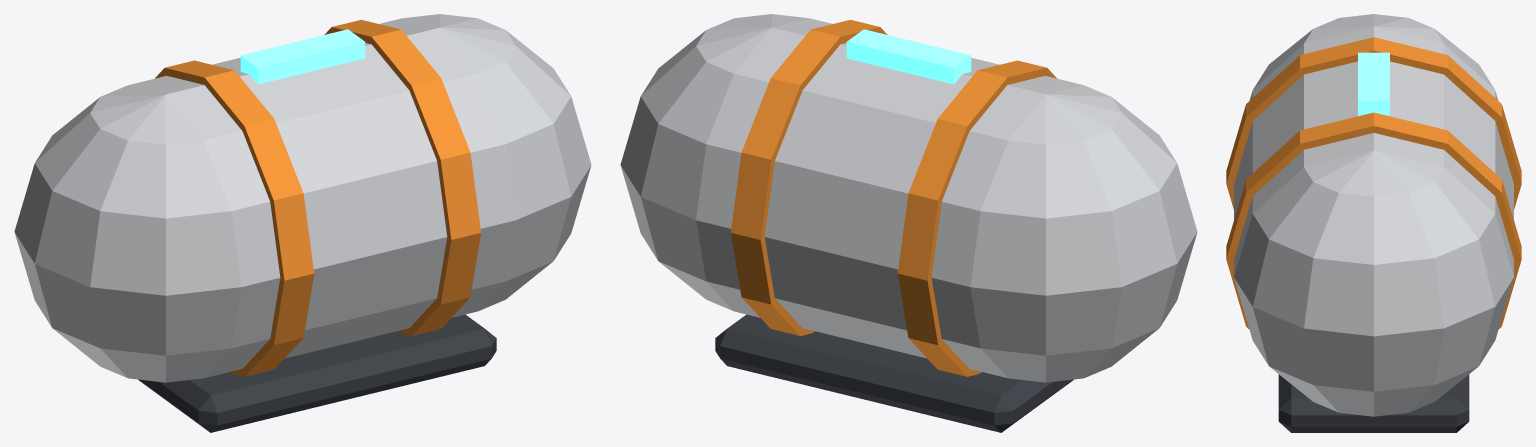
File: interstellar_fuel_tank.glb
3 views of the same model, side by side, from view 1: azimuth 30°, elevation 25°; view 2: azimuth 150°, elevation 25°; view 3: azimuth 270°, elevation 25° (orthographic). The views are drawn at different scales.
Parts seen in each view (by area): view 1: interstellar_fuel_tank; view 2: interstellar_fuel_tank; view 3: interstellar_fuel_tank.
Part boxes in pixels (x1,y1,x2,y2): interstellar_fuel_tank: [14, 14, 591, 432]; interstellar_fuel_tank: [620, 14, 1197, 432]; interstellar_fuel_tank: [1226, 14, 1521, 432].
Size of the model in its own units: 0.9 by 0.51 by 0.464.
